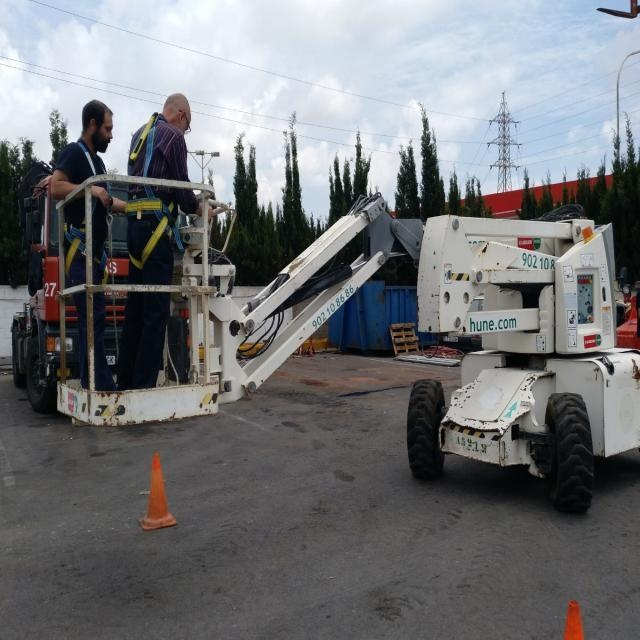Arnes_seguridad: (121, 111, 183, 267), (63, 142, 110, 282)
